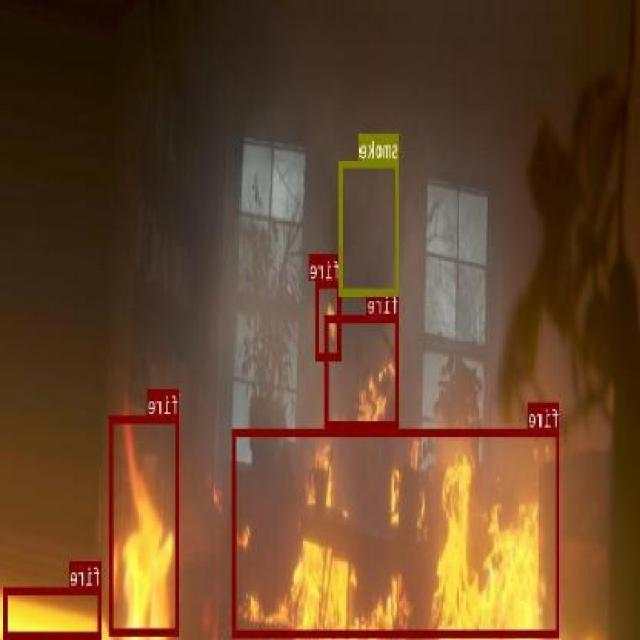Fire: (233, 428, 562, 636), (110, 416, 181, 634), (325, 314, 401, 428), (6, 586, 102, 637), (318, 278, 342, 358)
Smoke: (340, 160, 400, 294)
